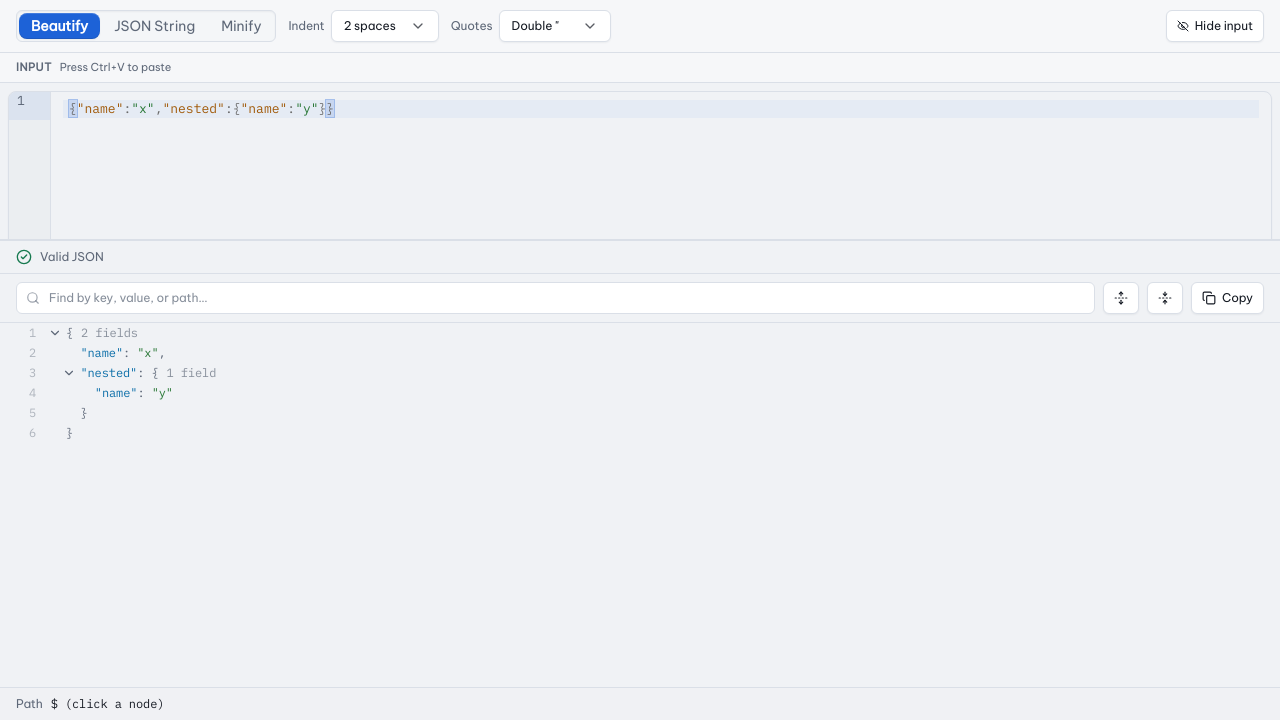
Test: JSON tree › counts matches and Enter in the search box jumps between them
Type "name" into the field with placeholder "Find by key, value, or path…" at (556, 298), box x1=16 y1=282 x2=1095 y2=314
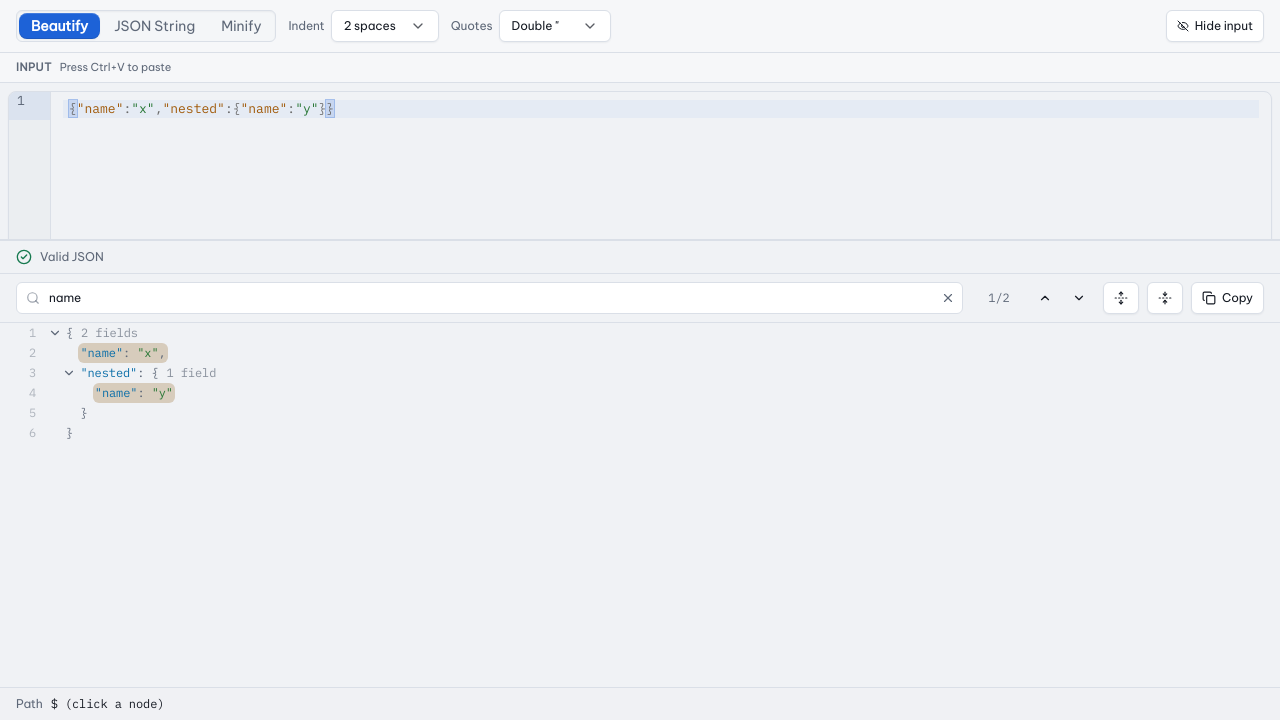
Now the text "1/2" is shown, box x1=988 y1=290 x2=1010 y2=305
Press Enter in the field with placeholder "Find by key, value, or path…", box x1=16 y1=282 x2=963 y2=314
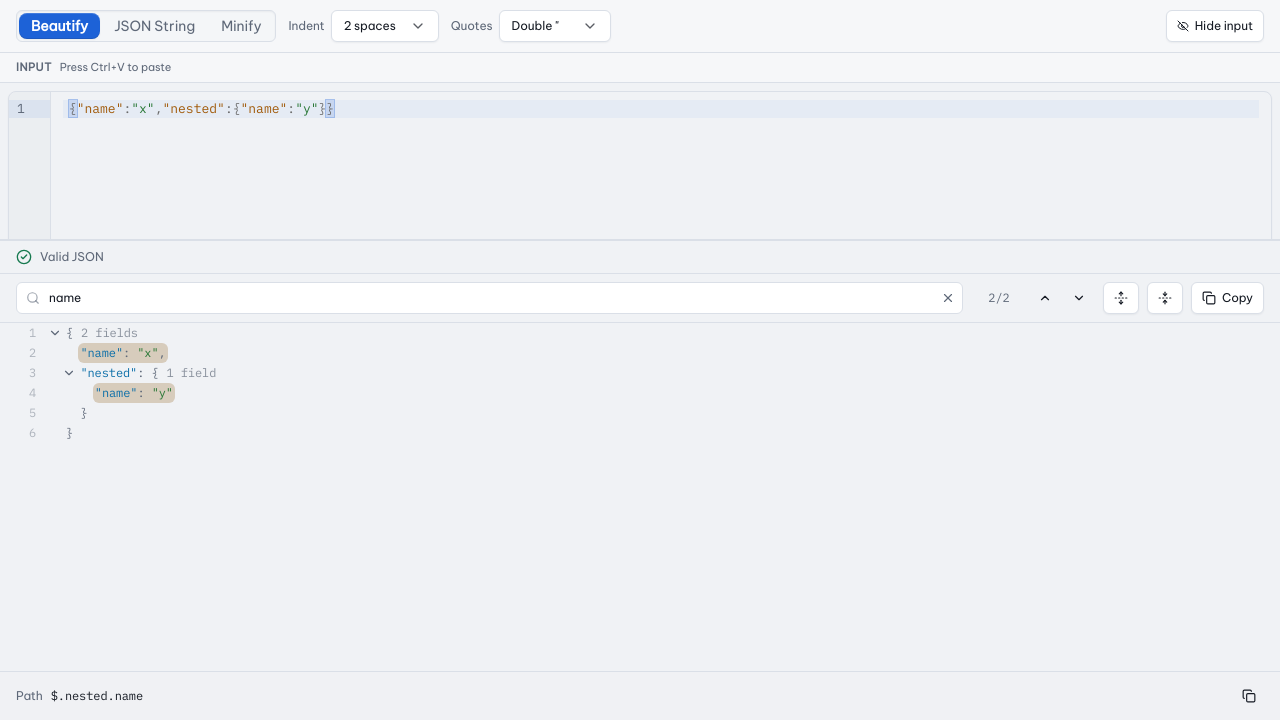
Now the text "2/2" is shown, box x1=988 y1=290 x2=1010 y2=305
